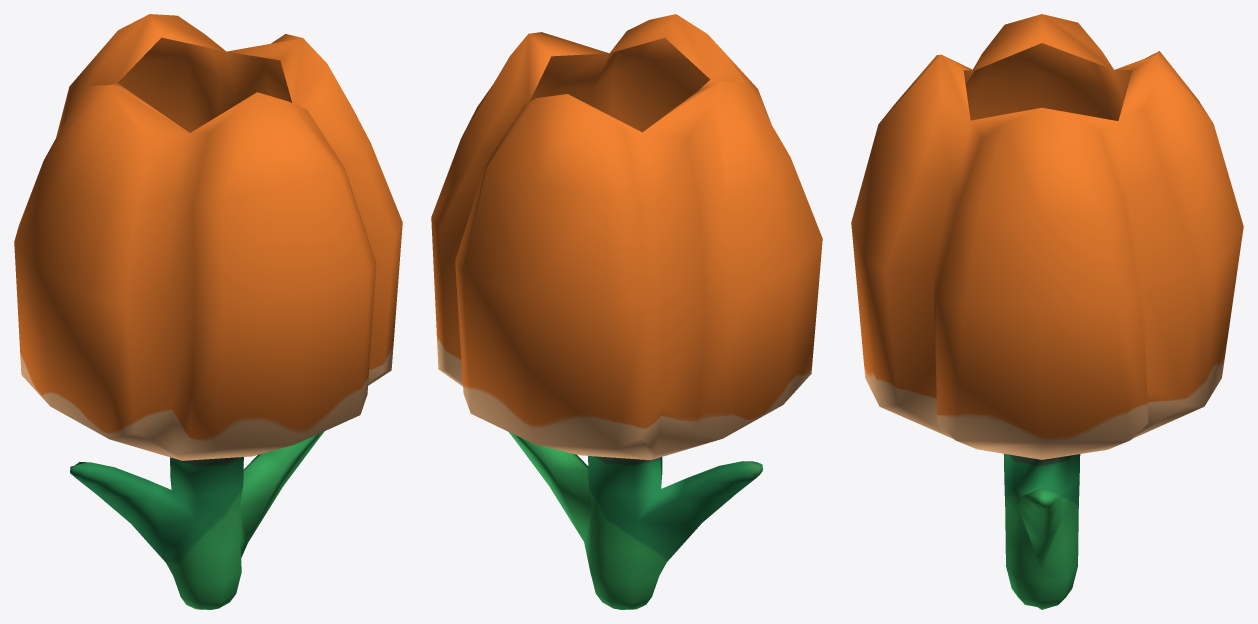
Rendered from tulipan.glb.
The picture shows the model from 3 angles, left to right: view 1: azimuth 30°, elevation 25°; view 2: azimuth 150°, elevation 25°; view 3: azimuth 270°, elevation 25°; orthographic projection.
Parts seen in each view (by area): view 1: Plane; view 2: Plane; view 3: Plane.
Boxes of the visible parts, <box> form: Plane: <box>14,14,402,609</box>; Plane: <box>431,14,822,609</box>; Plane: <box>851,14,1243,609</box>.
Bounding box in the file's own units: 0.3211 × 0.5 × 0.3233.
Materials: 1 (1 with a texture image).
